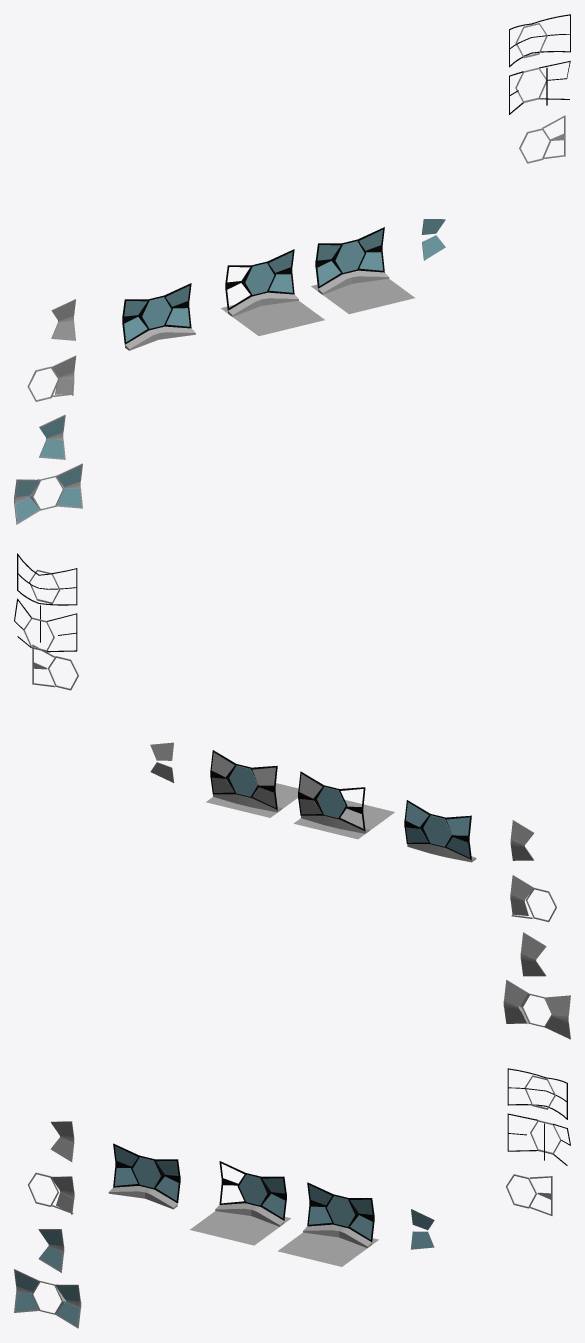
File: ExportedFBXFile.fbx
The picture shows the model from 3 angles, top to bottom: view 1: azimuth 30°, elevation 25°; view 2: azimuth 150°, elevation 25°; view 3: azimuth 330°, elevation 25°; orthographic projection. The views are drawn at different scales.
Parts seen in each view (by area): view 1: ground4, Floor1, Frames, polySurface14, dock1, dock_orig, dock, MainPanel, middleMonitor9_orig, MidMonitor1; view 2: ground4, Floor1, Frames, polySurface14, MidMonitor1, middleMonitor9_orig, MainPanel; view 3: ground4, Floor1, Frames, dock, dock_orig, dock1, polySurface14, middleMonitor9_orig, MainPanel, MidMonitor1, LS_Panel2_orig, polySurface48 (+4 smaller).
Part boxes in pixels (left/top/right/bottom): ground4: left=220, top=301, right=324, bottom=335; Floor1: left=311, top=279, right=414, bottom=314; Frames: left=122, top=283, right=191, bottom=344; polySurface14: left=51, top=299, right=75, bottom=340; dock1: left=318, top=270, right=389, bottom=294; dock_orig: left=228, top=292, right=298, bottom=316; dock: left=125, top=326, right=195, bottom=350; MainPanel: left=142, top=297, right=171, bottom=328; middleMonitor9_orig: left=245, top=263, right=274, bottom=294; MidMonitor1: left=335, top=241, right=364, bottom=272; ground4: left=294, top=800, right=394, bottom=839; Floor1: left=206, top=783, right=298, bottom=817; Frames: left=404, top=800, right=471, bottom=859; polySurface14: left=510, top=820, right=534, bottom=860; MidMonitor1: left=229, top=765, right=257, bottom=796; middleMonitor9_orig: left=317, top=787, right=345, bottom=818; MainPanel: left=423, top=815, right=451, bottom=846; ground4: left=190, top=1202, right=290, bottom=1245; Floor1: left=278, top=1232, right=378, bottom=1266; Frames: left=113, top=1143, right=180, bottom=1203; dock: left=108, top=1186, right=177, bottom=1209; dock_orig: left=215, top=1203, right=283, bottom=1226; dock1: left=303, top=1224, right=371, bottom=1248; polySurface14: left=50, top=1121, right=74, bottom=1161; middleMonitor9_orig: left=239, top=1174, right=267, bottom=1205; MainPanel: left=133, top=1157, right=160, bottom=1187; MidMonitor1: left=327, top=1196, right=354, bottom=1226; LS_Panel2_orig: left=410, top=1231, right=434, bottom=1249; polySurface48: left=15, top=1293, right=38, bottom=1311.
Bounding box in the file's own units: 899 × 562 × 131.
